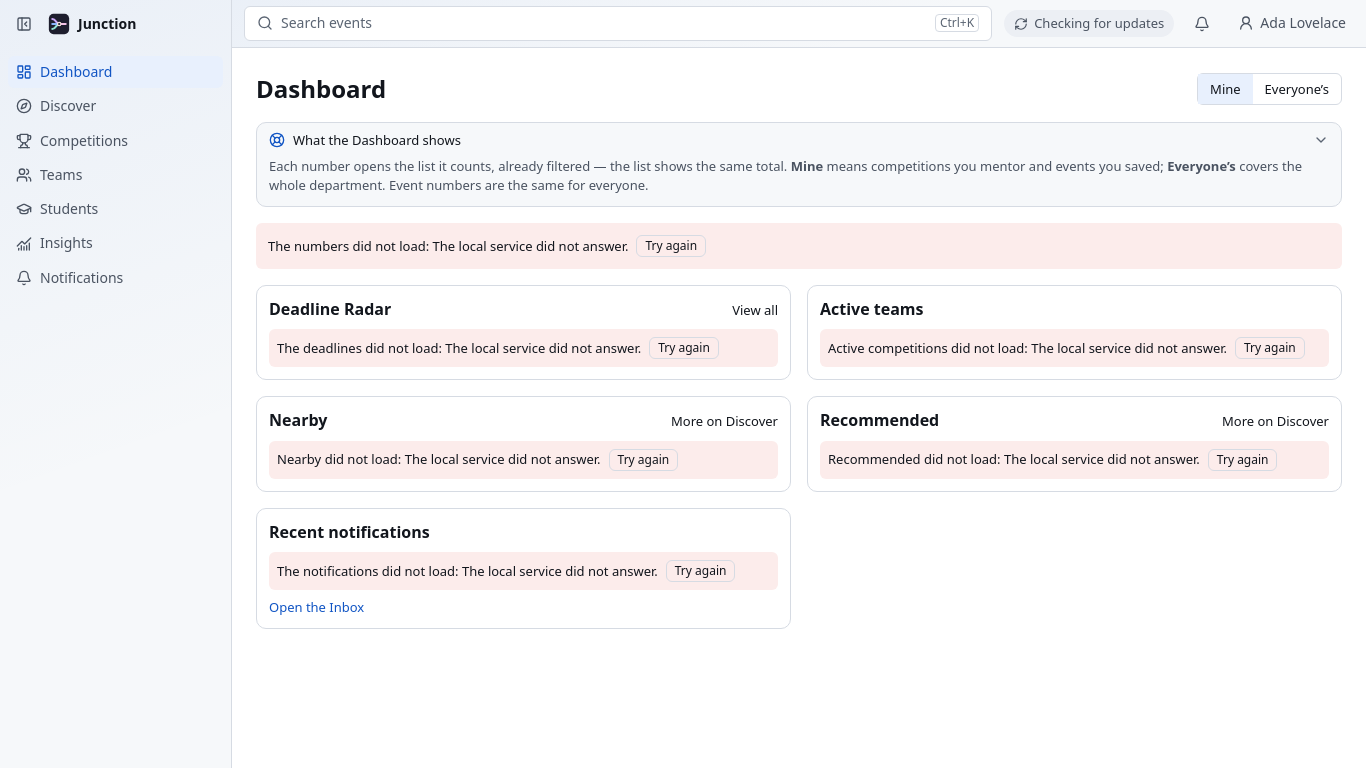
the Ctrl+K palette (§16.3) › also opens from the Ctrl+K button beside the search box
This screenshot has width=1366, height=768.
Expected: the navigation bar named "Main" is shown, [0,0,231,302]
Click the button with aria-label "Open command palette". click: (957, 24)
box: [935,14,979,32]
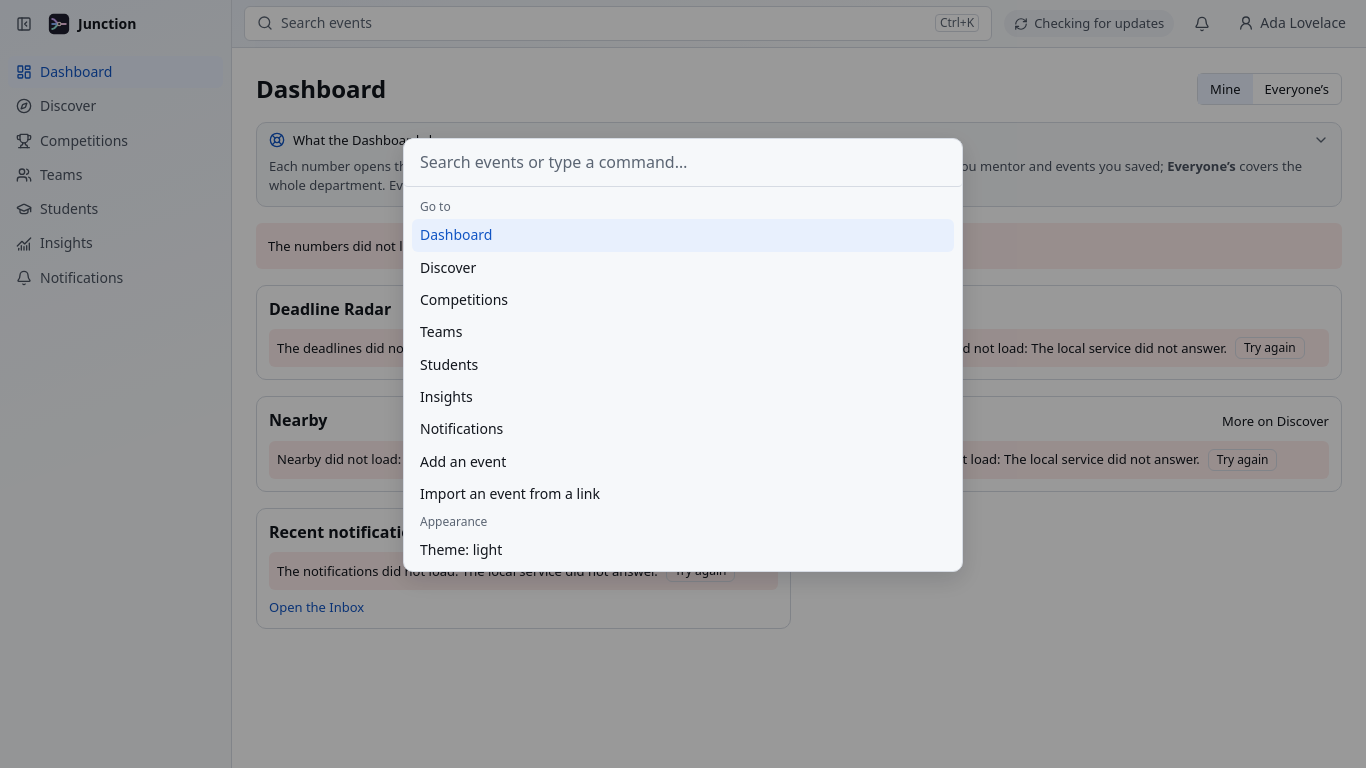
Expected: the dialog named "Command palette" is shown, [403,138,963,572]
